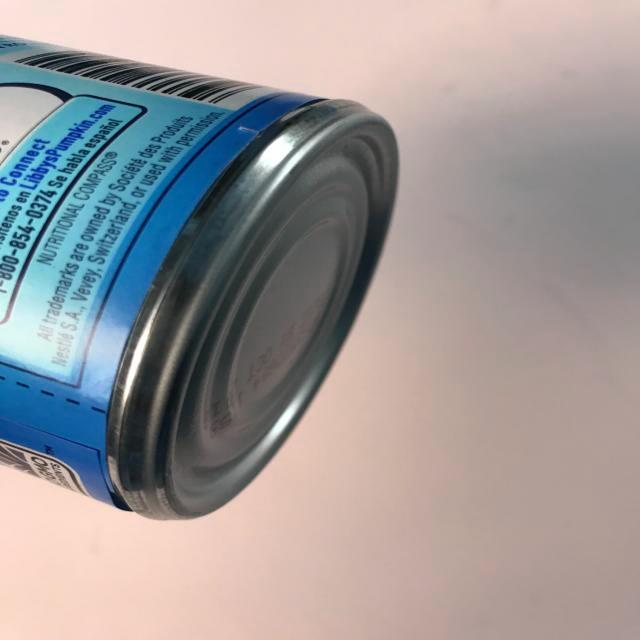metal: (0, 21, 414, 537)
